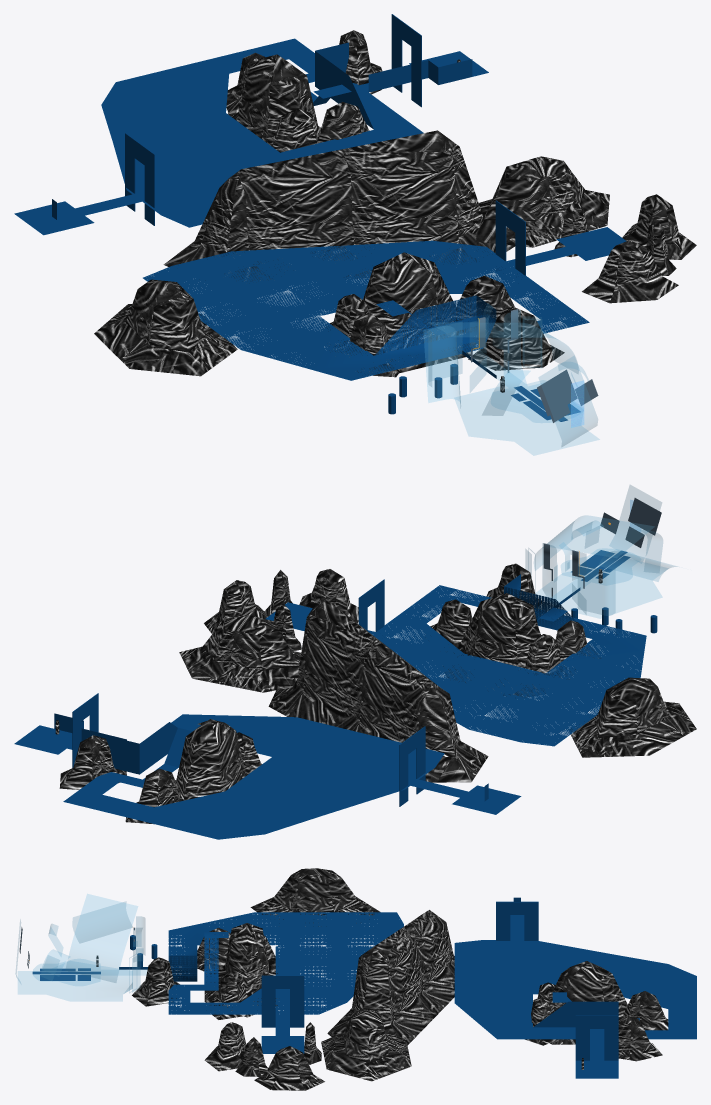
File: world_1g.glb
3 renders of one model, top to bottom at view 1: azimuth 30°, elevation 25°; view 2: azimuth 150°, elevation 25°; view 3: azimuth 270°, elevation 25°, orthographic. The views are drawn at different scales.
Visible parts, largest first — view 1: Cube.001, Plane.001, Plane.005, Plane.004; view 2: Cube.001, Plane.001, Plane.005, Plane.004; view 3: Cube.001, Plane.001, Plane.005, Plane.004.
Part boxes in pixels (bbox=[...]): Cube.001: bbox=[94, 30, 696, 392]; Plane.001: bbox=[14, 14, 626, 422]; Plane.005: bbox=[143, 240, 589, 380]; Plane.004: bbox=[423, 303, 599, 455]; Cube.001: bbox=[55, 563, 696, 824]; Plane.001: bbox=[14, 549, 657, 839]; Plane.005: bbox=[372, 574, 646, 746]; Plane.004: bbox=[525, 485, 677, 618]; Cube.001: bbox=[96, 868, 668, 1090]; Plane.001: bbox=[32, 897, 696, 1078]; Plane.005: bbox=[168, 912, 403, 1014]; Plane.004: bbox=[15, 894, 145, 1001].
Size of the model in its own units: 65.55 by 13.29 by 95.77.
Materials: 7 (3 with a texture image).
